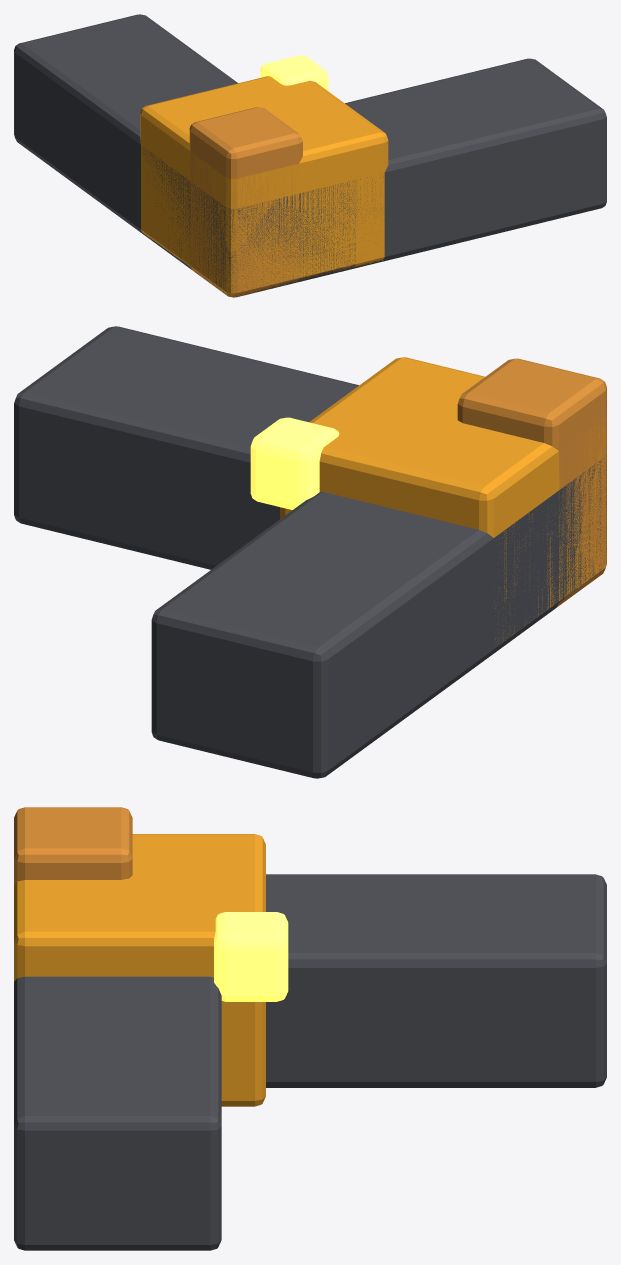
The model's file is voxel_corner_bracket.glb.
The picture shows the model from 3 angles, top to bottom: view 1: azimuth 30°, elevation 25°; view 2: azimuth 150°, elevation 25°; view 3: azimuth 270°, elevation 25°; orthographic projection. The views are drawn at different scales.
Visible parts, largest first — view 1: Corner_Wing_H, Corner_Cap_Orange, Corner_Wing_V, Corner_Tooth_Copper, Corner_Sensor_Glow; view 2: Corner_Wing_V, Corner_Wing_H, Corner_Cap_Orange, Corner_Tooth_Copper, Corner_Sensor_Glow; view 3: Corner_Wing_V, Corner_Wing_H, Corner_Cap_Orange, Corner_Tooth_Copper, Corner_Sensor_Glow.
Part boxes in pixels (x1,y1,x2,y2): Corner_Wing_H: (183, 58, 606, 296); Corner_Cap_Orange: (140, 76, 388, 296); Corner_Wing_V: (14, 14, 355, 296); Corner_Tooth_Copper: (189, 107, 302, 297); Corner_Sensor_Glow: (260, 55, 328, 91); Corner_Wing_V: (151, 461, 605, 778); Corner_Wing_H: (14, 326, 606, 639); Corner_Cap_Orange: (280, 357, 606, 643); Corner_Tooth_Copper: (457, 358, 606, 607); Corner_Sensor_Glow: (250, 417, 339, 509); Corner_Wing_V: (266, 874, 606, 1087); Corner_Wing_H: (14, 976, 221, 1250); Corner_Cap_Orange: (14, 834, 265, 1106); Corner_Tooth_Copper: (14, 807, 132, 884); Corner_Sensor_Glow: (214, 912, 288, 1001).
Bounding box in the file's own units: 0.8 × 0.3 × 0.8.
